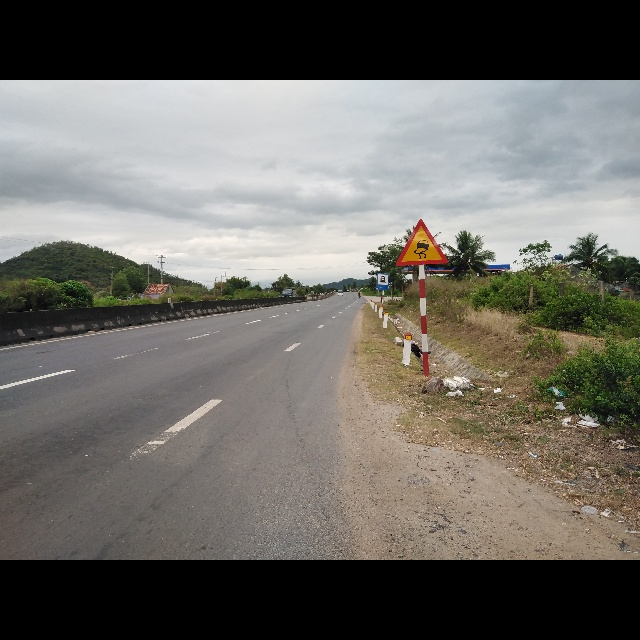Đường trơn trượt: (395, 217, 447, 268)
